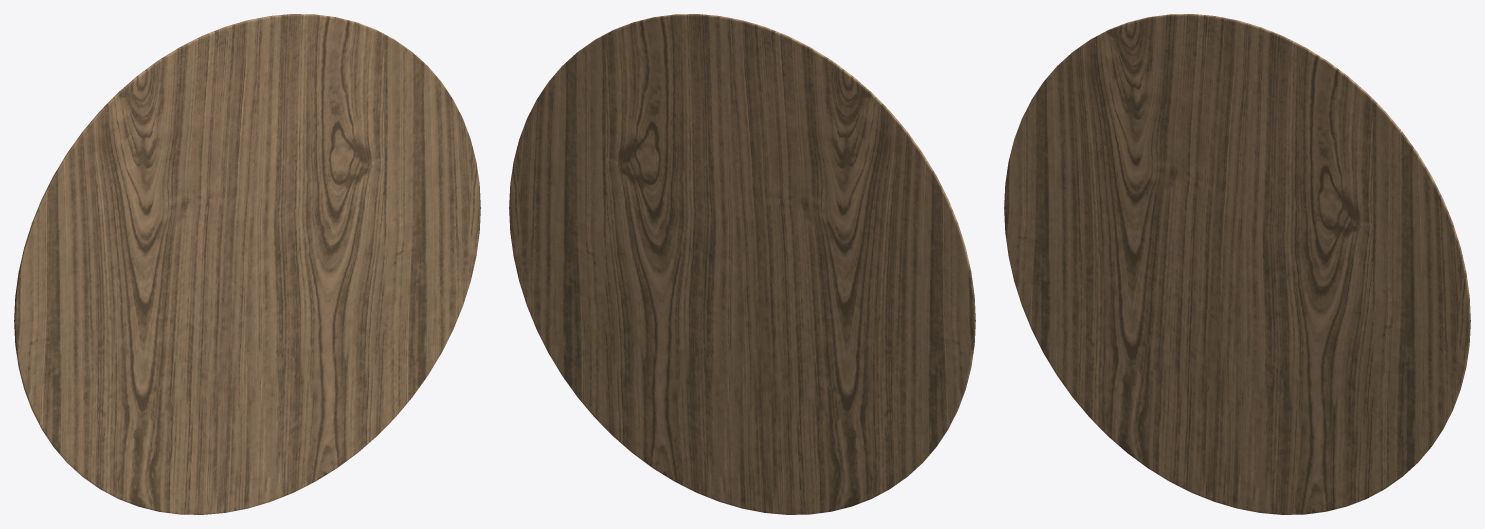
Rendered from l113_wood_button.glb.
3 views of the same model, side by side, from view 1: azimuth 30°, elevation 25°; view 2: azimuth 150°, elevation 25°; view 3: azimuth 330°, elevation 25° (orthographic).
Parts seen in each view (by area): view 1: L113_wood_button; view 2: L113_wood_button; view 3: L113_wood_button.
Part boxes in pixels (x1,y1,x2,y2): L113_wood_button: [14, 14, 480, 514]; L113_wood_button: [509, 14, 975, 514]; L113_wood_button: [1004, 14, 1470, 514].
Bounding box in the file's own units: 0.4 × 0.4 × 0.002.
Materials: 1 (1 with a texture image).
